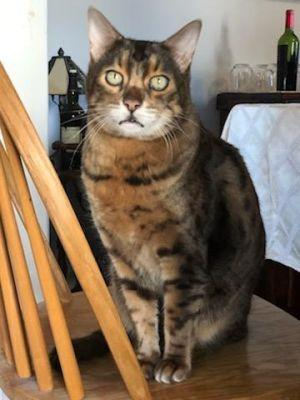bengal: (75, 1, 212, 143)
